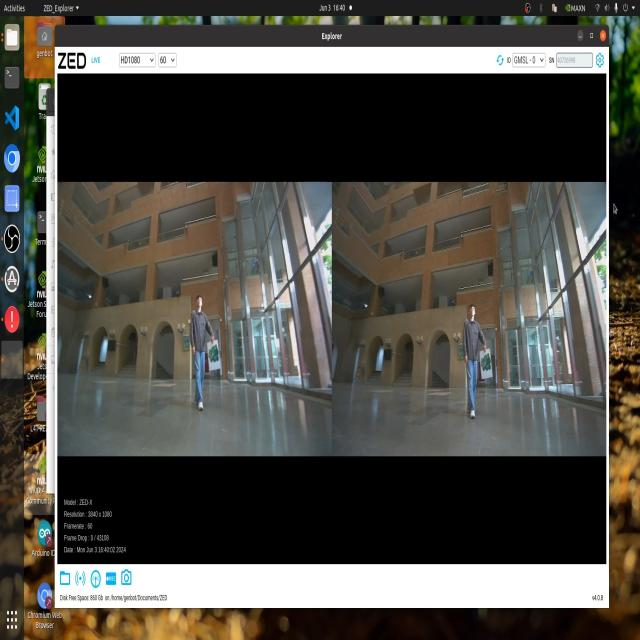green: (477, 352, 499, 384), (209, 337, 221, 365)
